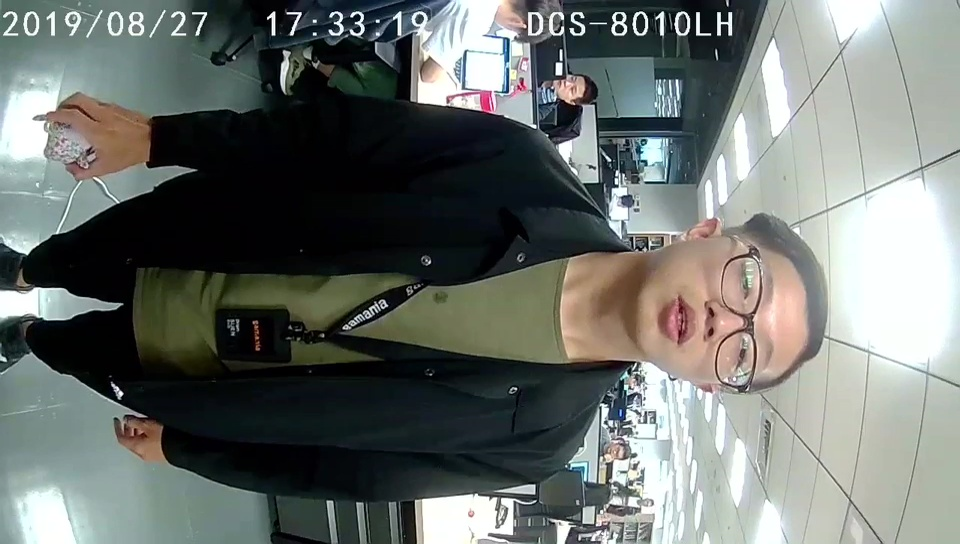pig: (44, 121, 97, 171)
